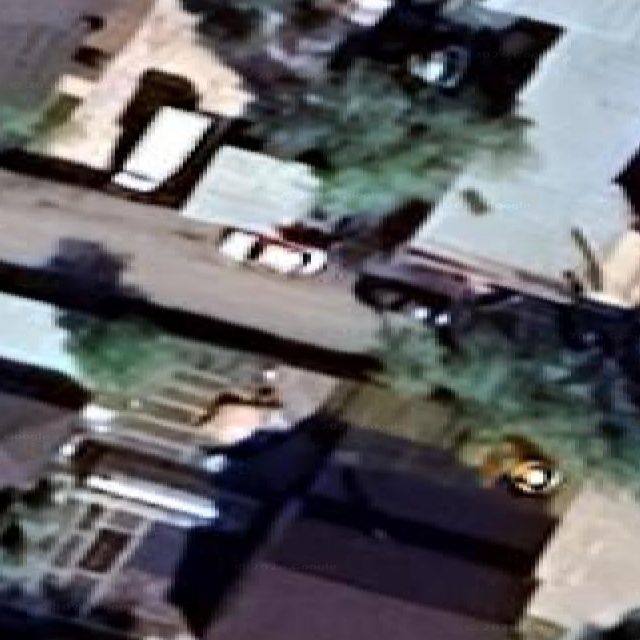car: (111, 107, 212, 192), (216, 227, 326, 275), (507, 460, 560, 495)
